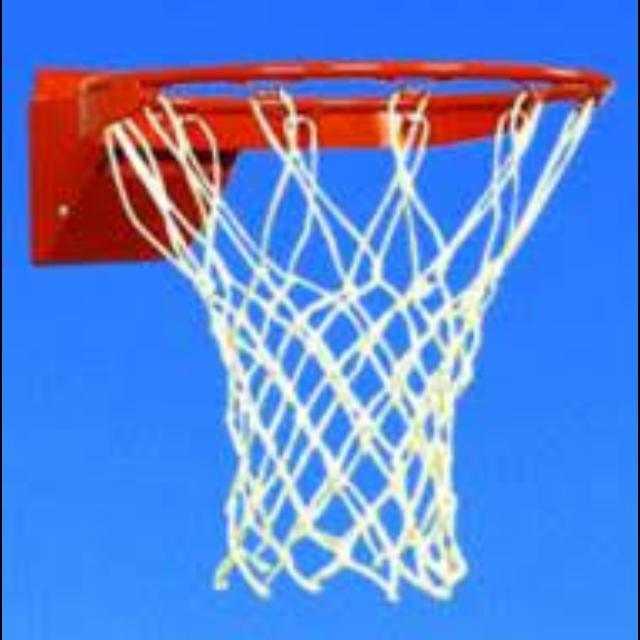rim: (105, 59, 615, 589)
